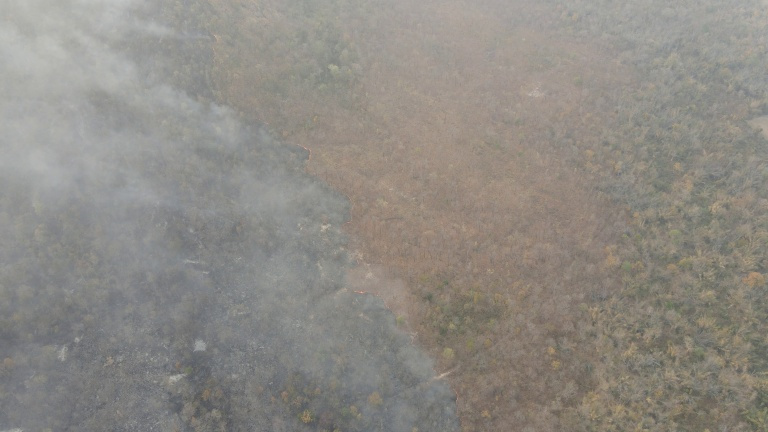smoke: (1, 1, 463, 425)
